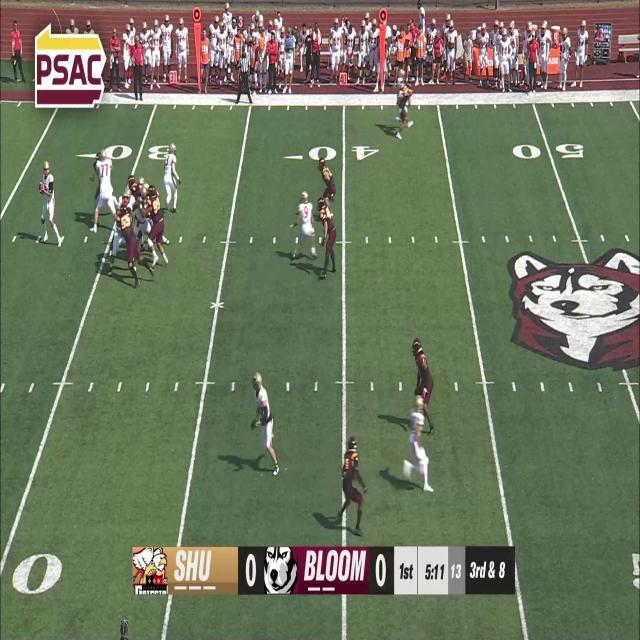football: (38, 182, 44, 194)
